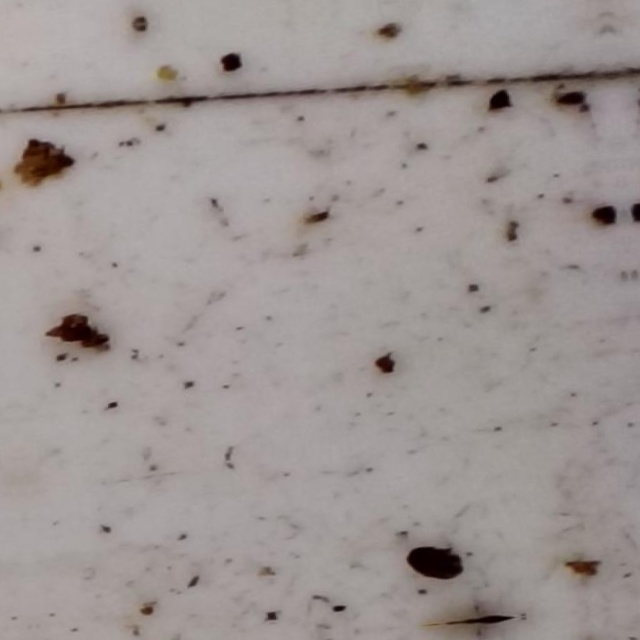varroa: (402, 541, 466, 586)
